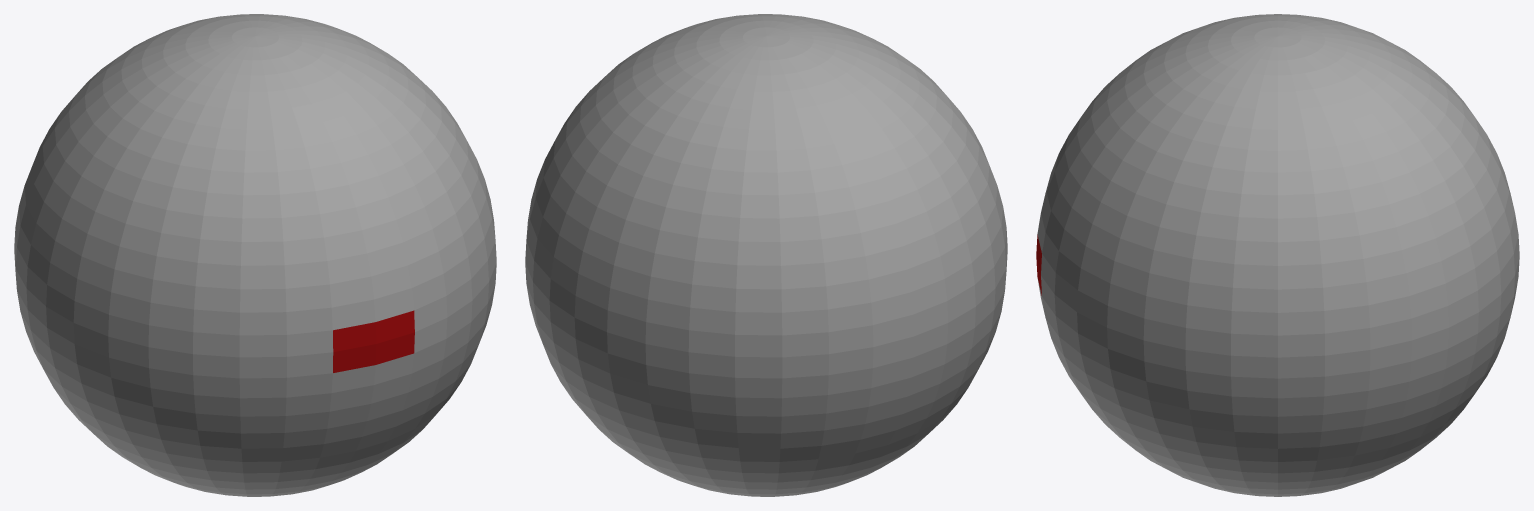
File: Cue_Ball.obj
3 renders of one model, left to right at view 1: azimuth 30°, elevation 25°; view 2: azimuth 150°, elevation 25°; view 3: azimuth 270°, elevation 25°, orthographic.
Visible parts, largest first — view 1: Sphere; view 2: Sphere; view 3: Sphere.
Part boxes in pixels (<box>): Sphere: <box>14,14,496,496</box>; Sphere: <box>525,14,1007,496</box>; Sphere: <box>1036,14,1519,496</box>.
Size of the model in its own units: 0.0571 by 0.0571 by 0.0571.
